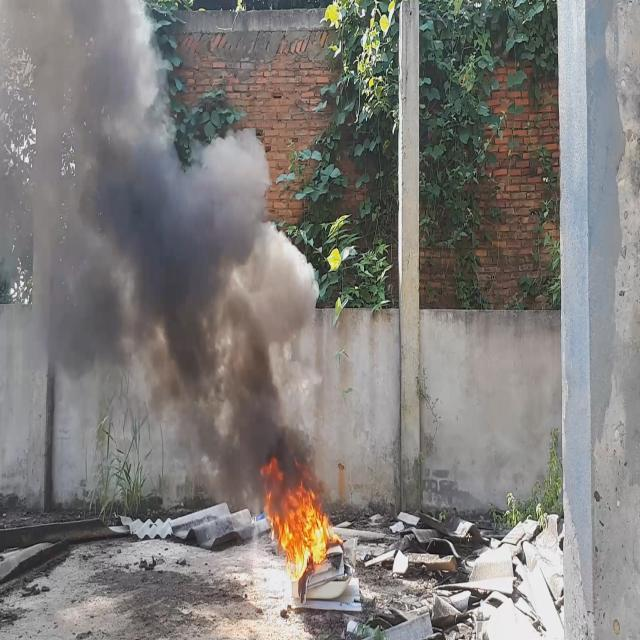Fire: (258, 452, 334, 585)
Smoke: (0, 0, 325, 506)
